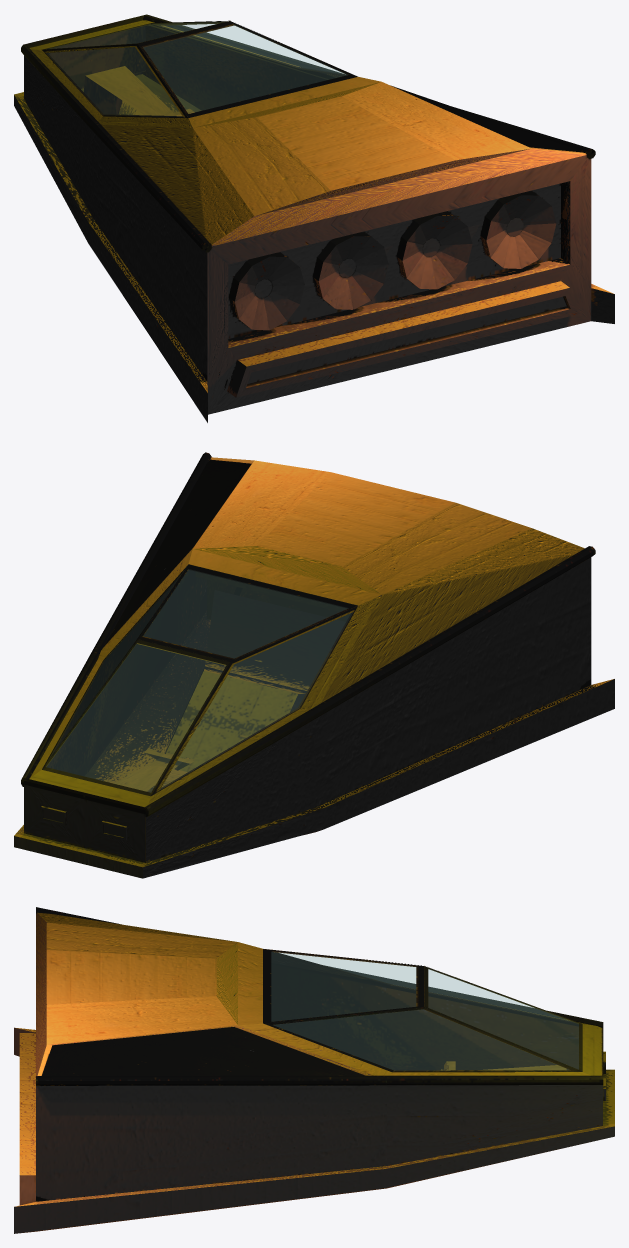
3 renders of one model, top to bottom at view 1: azimuth 30°, elevation 25°; view 2: azimuth 150°, elevation 25°; view 3: azimuth 270°, elevation 25°, orthographic. The views are drawn at different scales.
Parts seen in each view (by area): view 1: SHIP2; view 2: SHIP2; view 3: SHIP2.
Part boxes in pixels (box(x1,y1,x2,y2)): SHIP2: box(14, 14, 614, 422); SHIP2: box(14, 452, 614, 878); SHIP2: box(14, 907, 614, 1233).
Size of the model in its own units: 670 by 296 by 949.
Materials: 2 (1 with a texture image).
